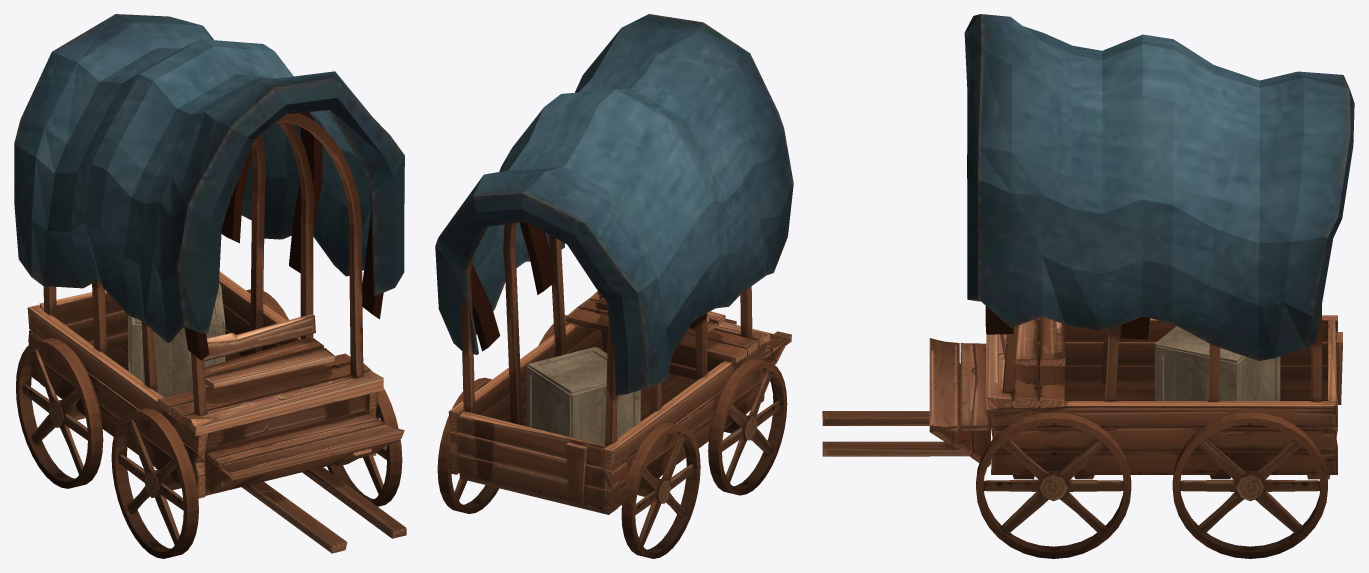
The picture shows the model from 3 angles, left to right: view 1: azimuth 30°, elevation 25°; view 2: azimuth 150°, elevation 25°; view 3: azimuth 270°, elevation 25°; orthographic projection. The views are drawn at different scales.
Parts seen in each view (by area): view 1: slot_canvas_top, slot_anchor_frame, slot_front_wheels, slot_bed_barrel; view 2: slot_canvas_top, slot_anchor_frame, slot_bed_barrel, slot_front_wheels; view 3: slot_canvas_top, slot_anchor_frame, slot_front_wheels, slot_bed_barrel.
Part boxes in pixels (<box>): slot_canvas_top: <box>14,14,404,360</box>; slot_anchor_frame: <box>16,113,406,553</box>; slot_front_wheels: <box>111,363,402,558</box>; slot_bed_barrel: <box>128,283,225,397</box>; slot_canvas_top: <box>435,14,793,395</box>; slot_anchor_frame: <box>437,223,791,558</box>; slot_bed_barrel: <box>526,347,640,445</box>; slot_front_wheels: <box>538,315,787,495</box>; slot_canvas_top: <box>964,14,1354,360</box>; slot_anchor_frame: <box>822,305,1342,558</box>; slot_front_wheels: <box>976,412,1131,558</box>; slot_bed_barrel: <box>1154,326,1280,400</box>.
Size of the model in its own units: 1.08 by 2.01 by 2.01.
Materials: 3 (3 with a texture image).
